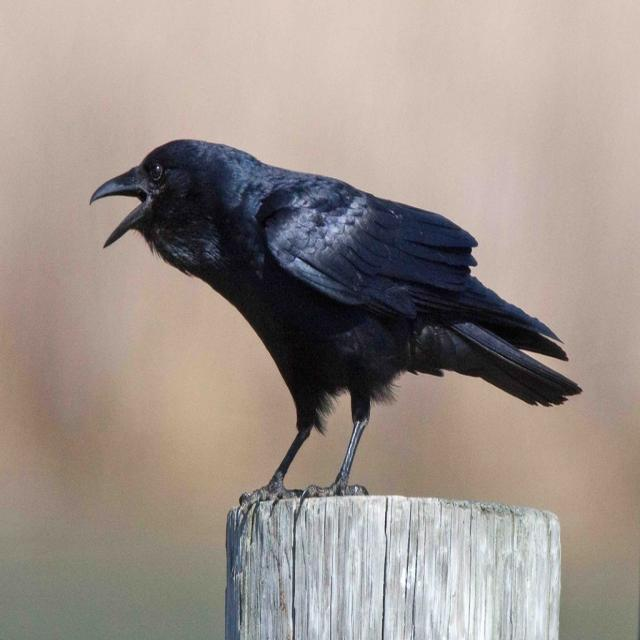bird: (76, 120, 590, 504)
